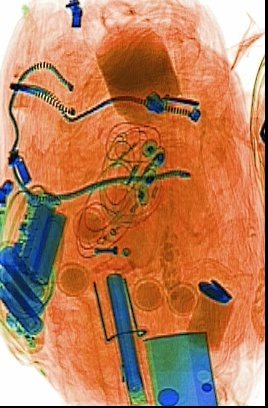powerbank: (10, 189, 70, 287), (1, 239, 48, 358)
